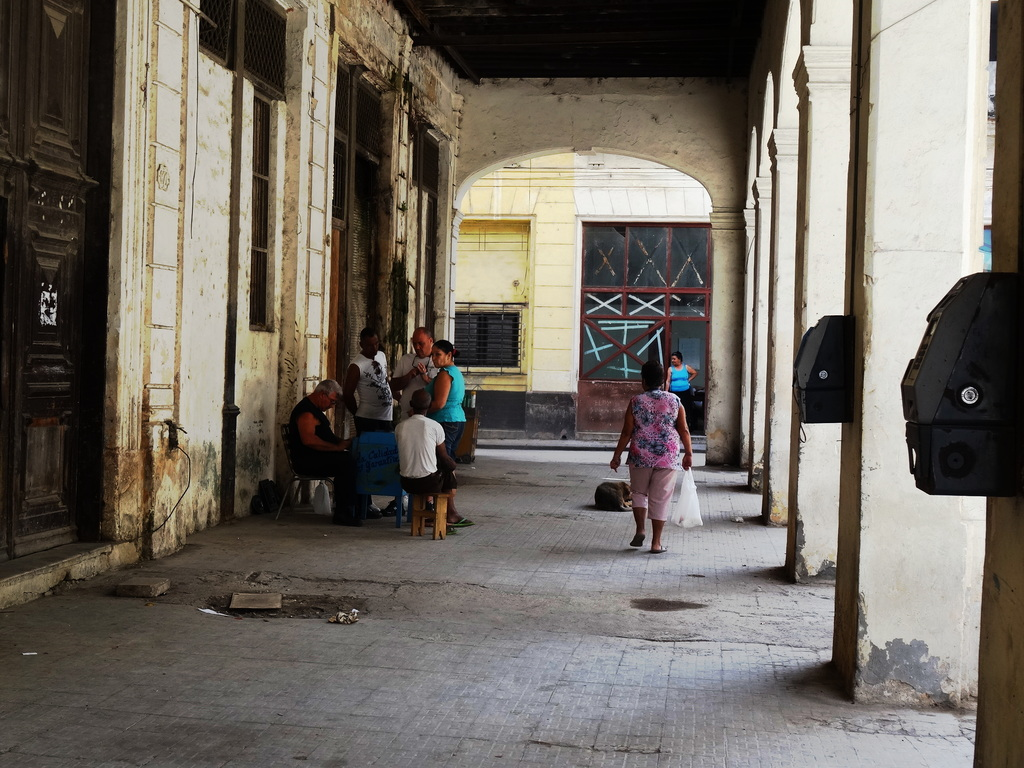Door: (0, 0, 116, 582)
